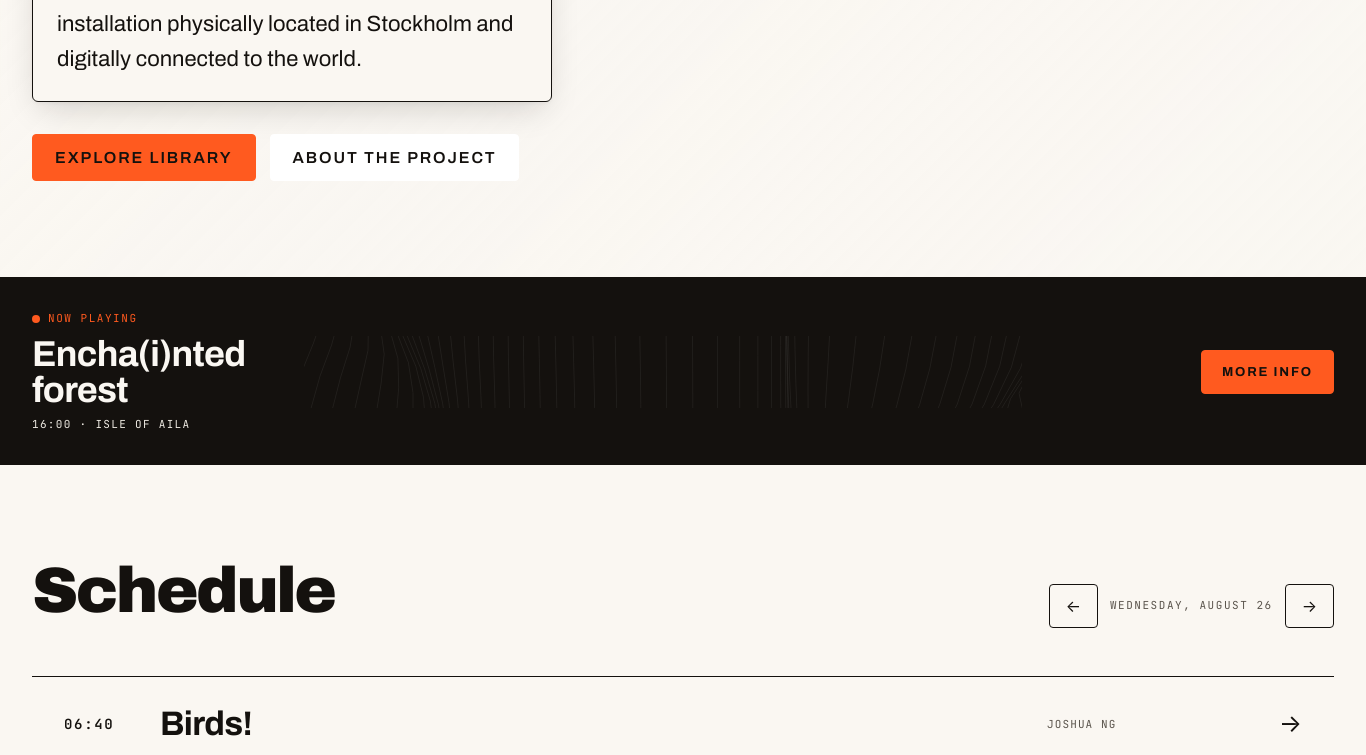
Test: Home › Schedule Item Expansion › displays tags when expanded
(page scrolled)
Click the button "More Info" at (1267, 372), box [1201,350,1334,394]
(page scrolled)
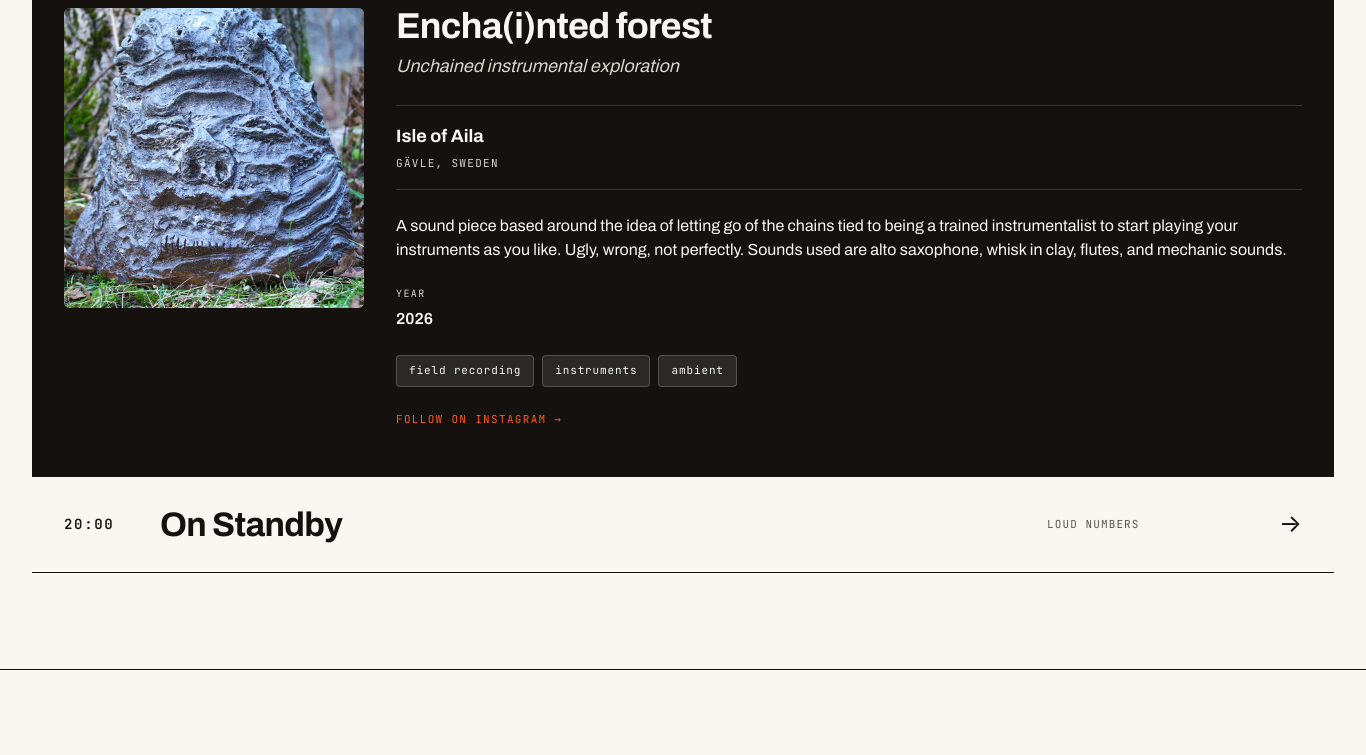
Check: the text "field recording" is shown, box [396,355,534,387]
Check: the text "instruments" is shown, box [542,355,650,387]
